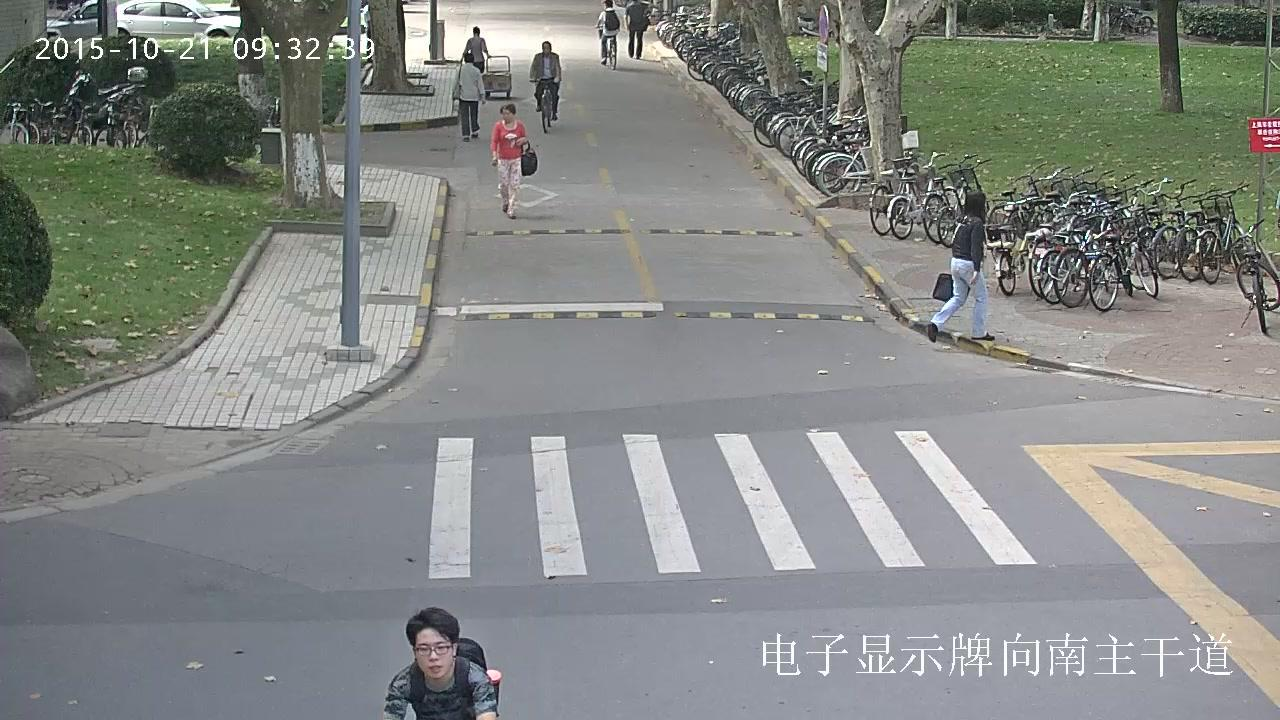face: (415, 627, 452, 678), (500, 109, 513, 120), (543, 43, 551, 55)
